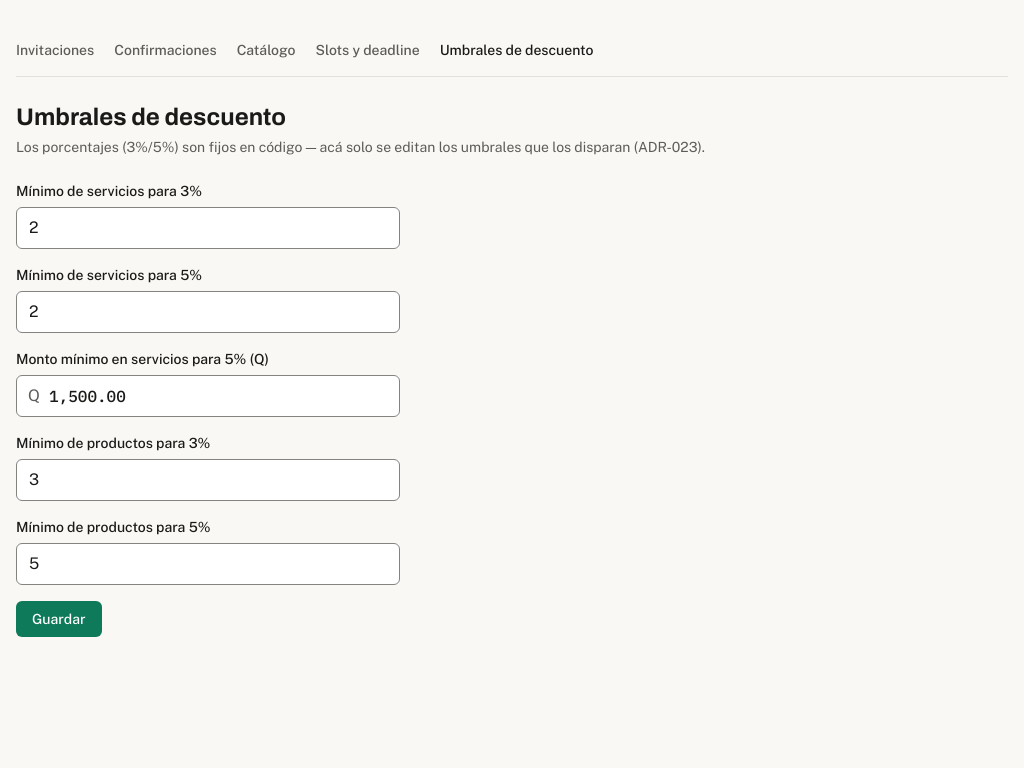
Test case: ConfiguracionDescuentoPage — monto mínimo en quetzales › muestra el monto guardado en centavos como quetzales con formato, y lo envía de vuelta en centavos
Replace the text in the field labelled "Monto mínimo en servicios para 5% (Q)" with "2000.75". click: [208, 396]
box: [16,375,400,417]
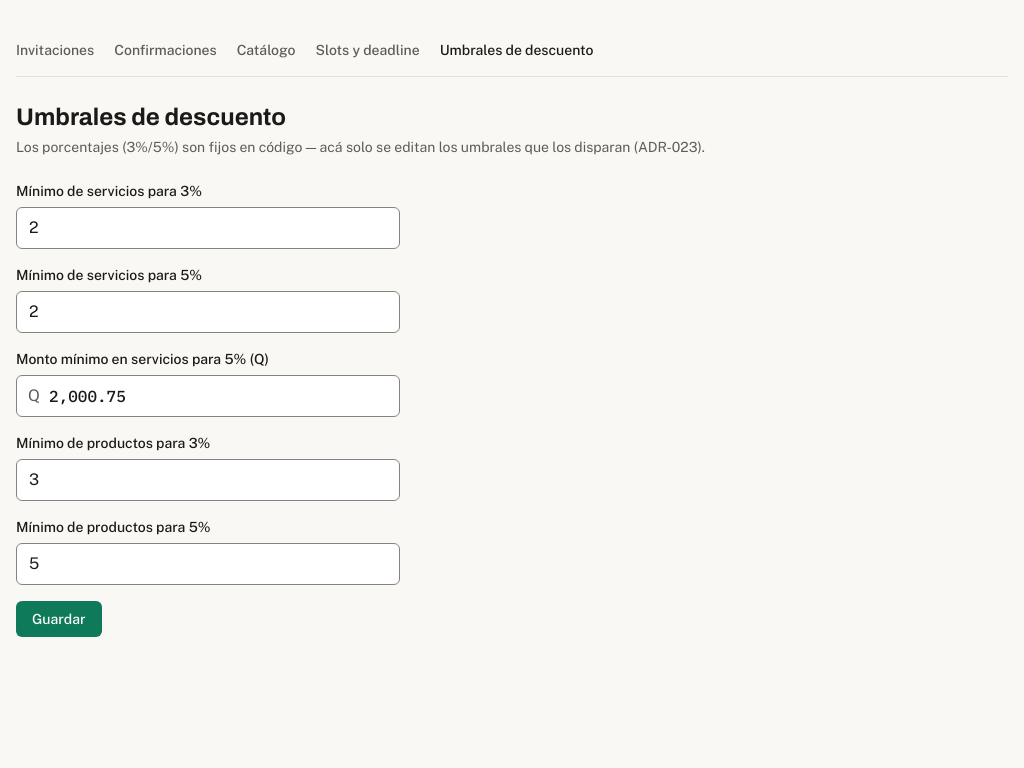
Click the button "Guardar". click: [59, 619]
box: [16,601,102,637]
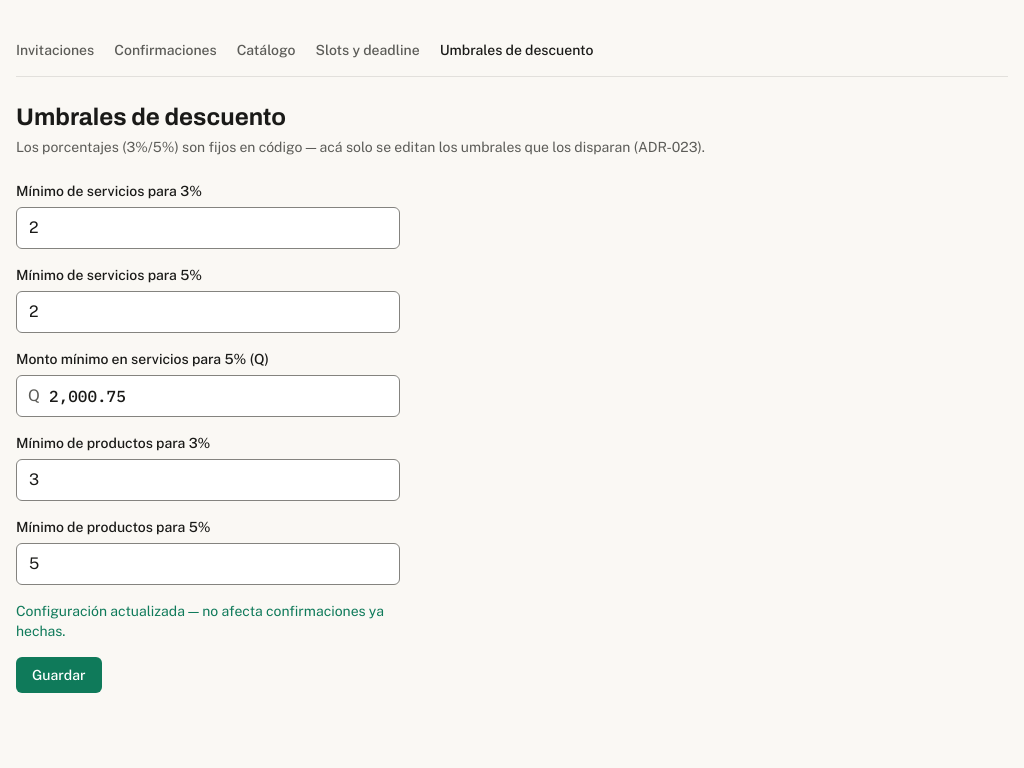
Result: the text "Configuración actualizada — no afecta confirmaciones ya hechas." is shown at [16,601,400,641]
